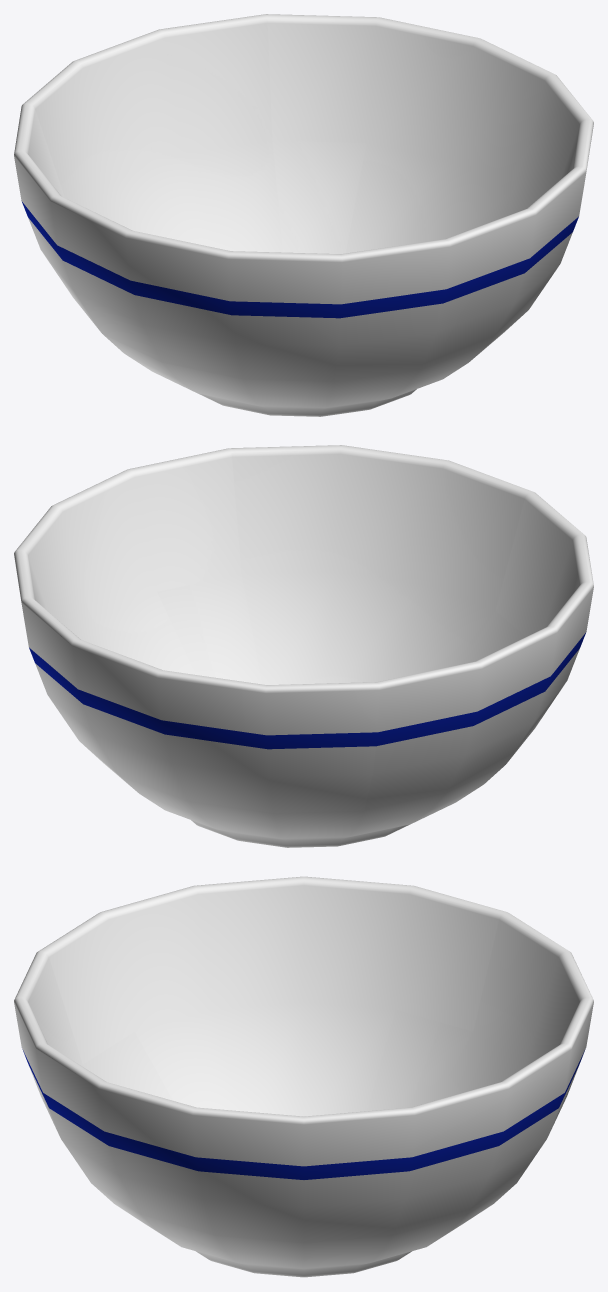
File: small_soup_plate.glb
The picture shows the model from 3 angles, top to bottom: view 1: azimuth 30°, elevation 25°; view 2: azimuth 150°, elevation 25°; view 3: azimuth 270°, elevation 25°; orthographic projection.
Visible parts, largest first — view 1: small_soup_plate; view 2: small_soup_plate; view 3: small_soup_plate.
Part boxes in pixels (x1,y1,x2,y2): small_soup_plate: (14,14,593,416); small_soup_plate: (14,445,593,847); small_soup_plate: (14,876,593,1277).
Size of the model in its own units: 0.1332 by 0.0574 by 0.1331.
2 materials, 2 textured.
